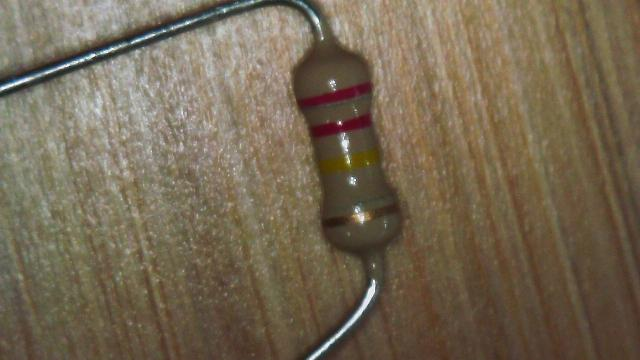gold: (322, 203, 398, 228)
red: (297, 84, 370, 108), (310, 113, 370, 138)
resistor: (269, 22, 436, 275)
yellow: (318, 148, 378, 173)
